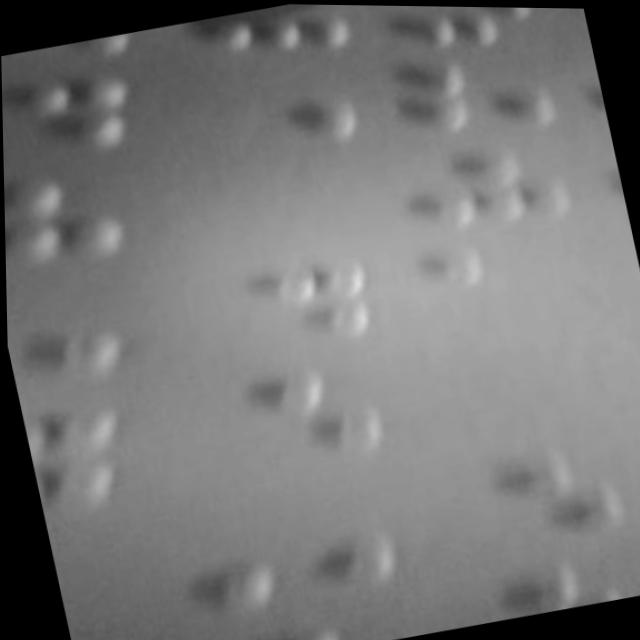braiile: (170, 243, 383, 379), (193, 351, 399, 491), (185, 51, 362, 166), (2, 142, 140, 289), (387, 38, 558, 156), (408, 134, 582, 247), (5, 266, 128, 388)
